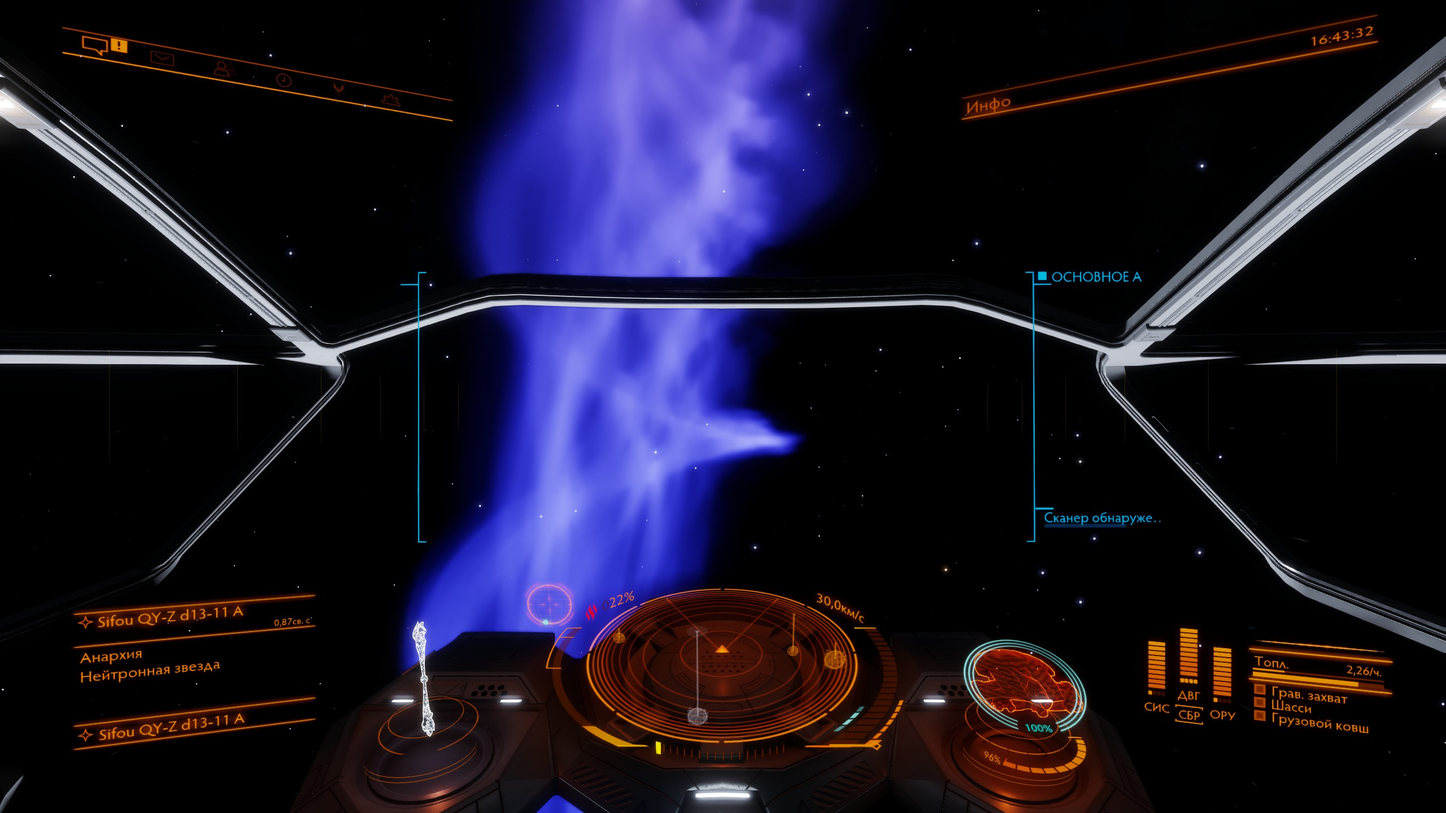jetcone: (401, 2, 895, 606), (414, 12, 880, 615)
